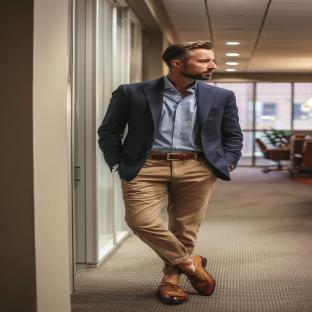Human: (98, 41, 242, 302)
